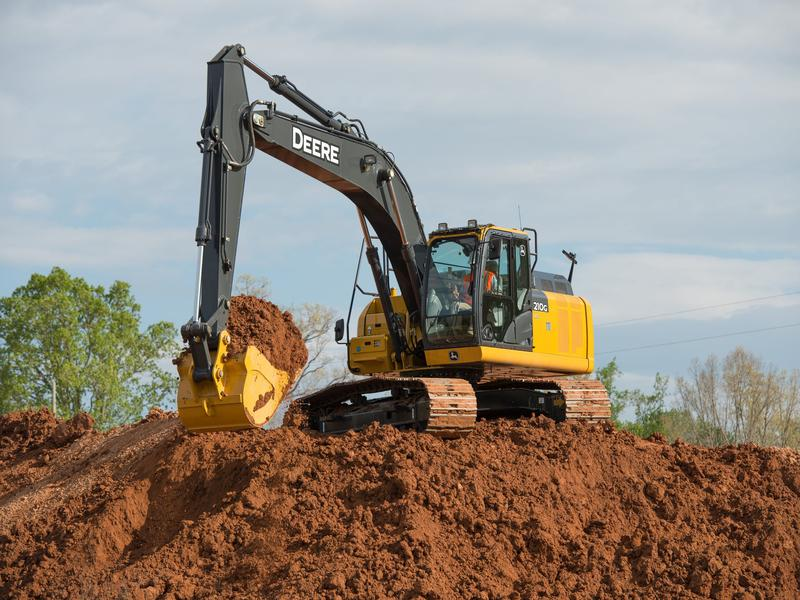shovel: (166, 37, 627, 446)
